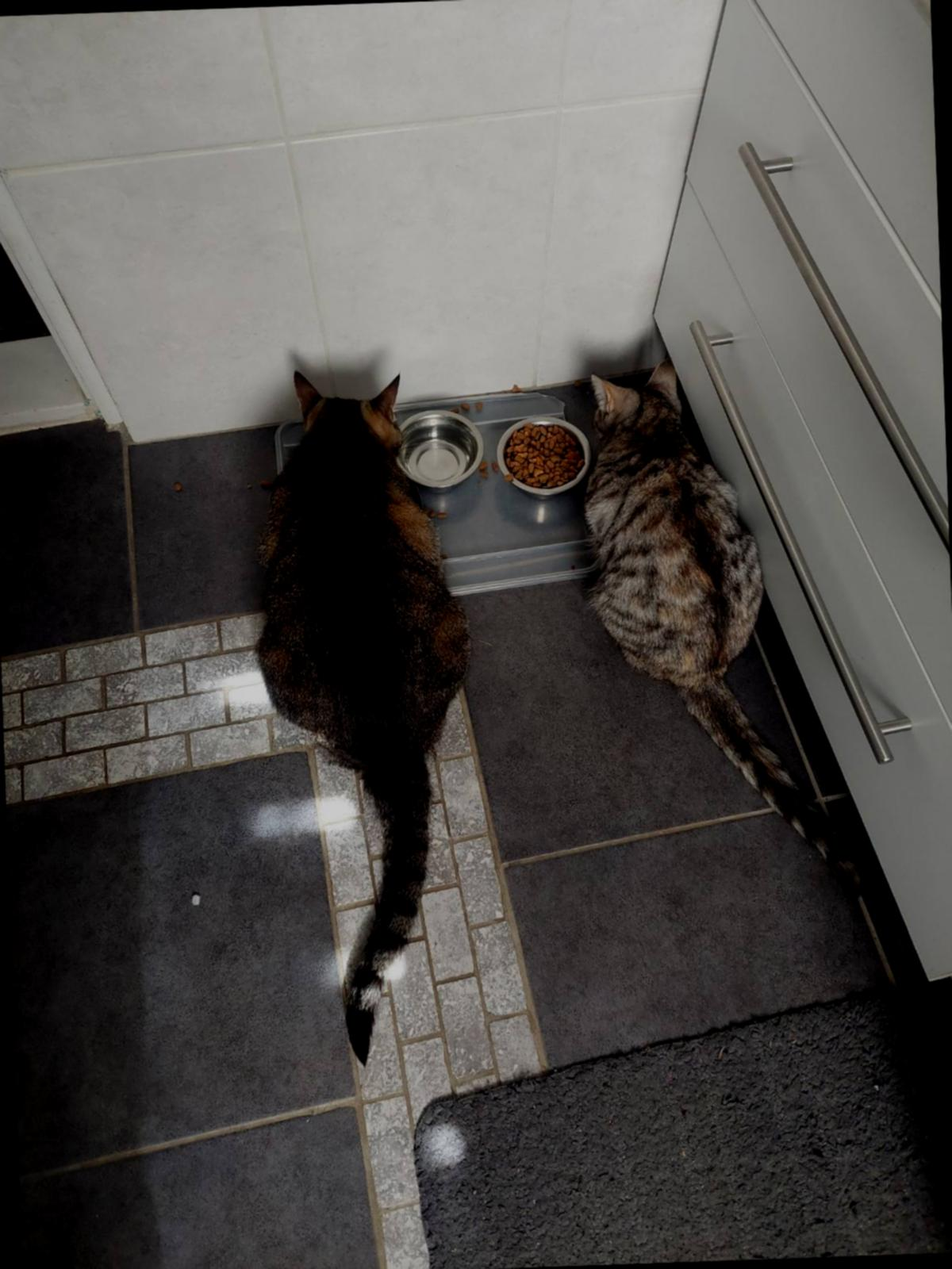macka: (245, 360, 487, 1072), (578, 349, 867, 909)
